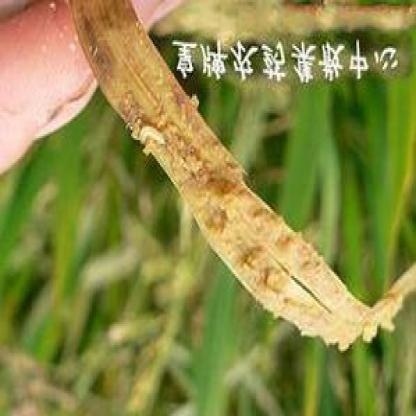whorl-maggot: (137, 120, 169, 152)
